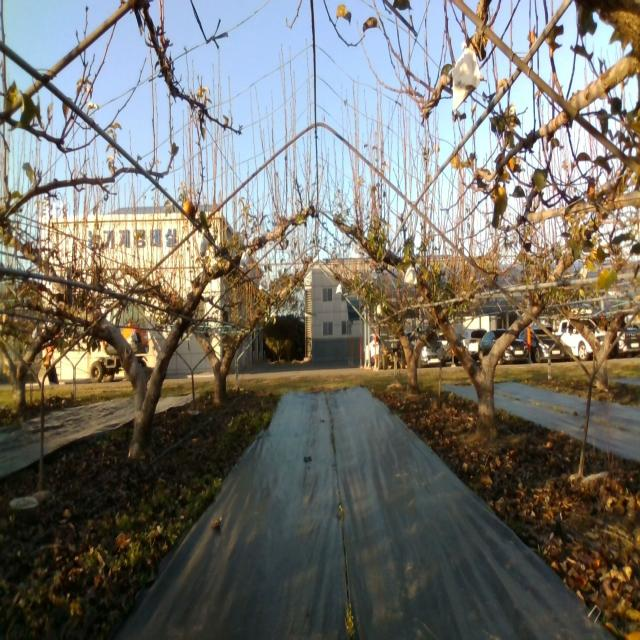pearbags: (451, 41, 481, 113), (404, 263, 417, 285), (197, 228, 207, 255), (240, 248, 250, 269)
